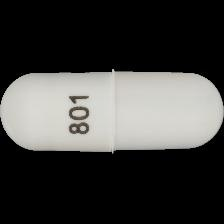64725-0101: (0, 0, 224, 224)
